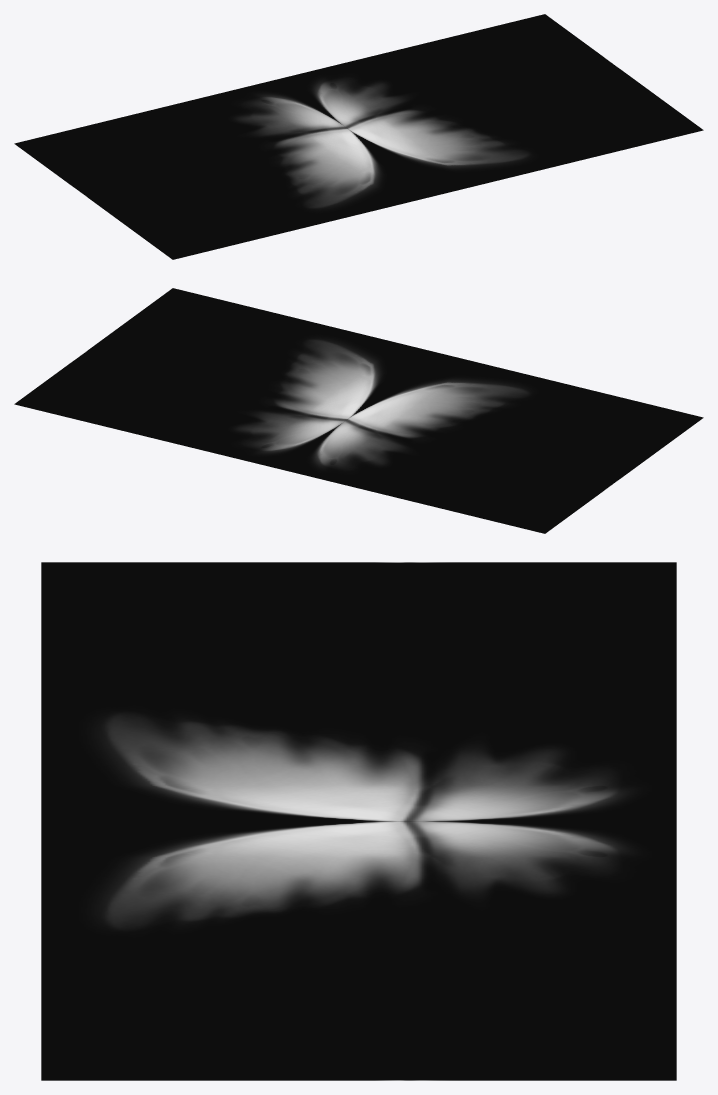
Rendered from SM_VFX_SymmetricalBird.fbx.
The picture shows the model from 3 angles, top to bottom: view 1: azimuth 30°, elevation 25°; view 2: azimuth 150°, elevation 25°; view 3: azimuth 270°, elevation 25°; orthographic projection. The views are drawn at different scales.
Parts seen in each view (by area): view 1: BirdMesh; view 2: BirdMesh; view 3: BirdMesh.
Part boxes in pixels (x1,y1,x2,y2): BirdMesh: [14, 14, 703, 259]; BirdMesh: [14, 288, 703, 533]; BirdMesh: [41, 562, 676, 1080].
Size of the model in its own units: 40.2 by 0 by 20.83.
